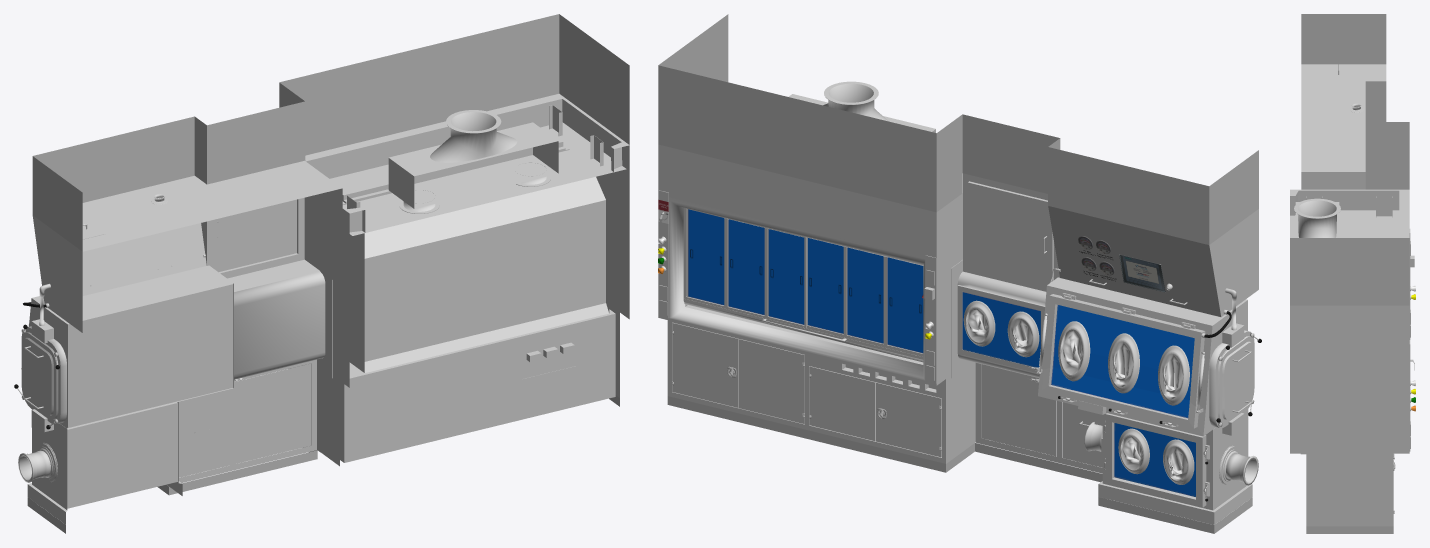
File: small isolator12.fbx
3 views of the same model, side by side, from view 1: azimuth 30°, elevation 25°; view 2: azimuth 150°, elevation 25°; view 3: azimuth 270°, elevation 25° (orthographic). The views are drawn at different scales.
Visible parts, largest first — view 1: fume hood frame.001, fumehood cover small, Cube.047, Cube.060, isolator 2, Cube.017, isolator 3, Cube.015, Cube.002, Cube.039, Cylinder.002, fume hood frame (+6 smaller); view 2: fumehood cover small, fume hood frame.001, Cube.047, isolator 2 door, Cube.017, 3" small isolator plate, fume hood frame, isolator 2, isolator 1, isolator 3 door, fume hood bottome doors 1, isolator 3 (+24 smaller); view 3: fume hood frame.001, fumehood cover small, Cube.047, fume hood frame, Cylinder.002, 3" small isolator plate, Cube.003, Plane.003, Cube.011, Cube.010, Cube.002.
Boxes of the visible parts, bbox=[...] form: fume hood frame.001: bbox=[305, 93, 629, 387]; fumehood cover small: bbox=[32, 14, 629, 251]; Cube.047: bbox=[32, 160, 342, 332]; Cube.060: bbox=[340, 309, 615, 462]; isolator 2: bbox=[22, 265, 233, 428]; Cube.017: bbox=[178, 359, 320, 482]; isolator 3: bbox=[27, 401, 182, 524]; Cube.015: bbox=[234, 271, 325, 379]; Cube.002: bbox=[388, 122, 558, 208]; Cube.039: bbox=[21, 326, 66, 424]; Cylinder.002: bbox=[430, 110, 517, 162]; fume hood frame: bbox=[290, 305, 619, 466]; fumehood cover small: bbox=[658, 14, 1258, 244]; fume hood frame.001: bbox=[658, 144, 962, 385]; Cube.047: bbox=[963, 173, 1258, 316]; isolator 2 door: bbox=[1041, 294, 1205, 428]; Cube.017: bbox=[975, 363, 1102, 473]; 3" small isolator plate: bbox=[667, 396, 1252, 533]; fume hood frame: bbox=[667, 320, 981, 463]; isolator 2: bbox=[1038, 277, 1247, 436]; isolator 1: bbox=[957, 271, 1046, 377]; isolator 3 door: bbox=[1105, 413, 1206, 507]; fume hood bottome doors 1: bbox=[738, 339, 804, 423]; isolator 3: bbox=[1098, 409, 1252, 524]; fume hood frame.001: bbox=[1290, 189, 1409, 453]; fumehood cover small: bbox=[1290, 14, 1409, 305]; Cube.047: bbox=[1301, 64, 1386, 189]; fume hood frame: bbox=[1306, 453, 1393, 526]; Cylinder.002: bbox=[1294, 198, 1340, 237]; 3" small isolator plate: bbox=[1306, 526, 1393, 533]; Cube.003: bbox=[1347, 215, 1371, 237]; Plane.003: bbox=[1376, 196, 1392, 217]; Cube.011: bbox=[1409, 229, 1414, 339]; Cube.010: bbox=[1409, 340, 1410, 451]; Cube.002: bbox=[1295, 202, 1339, 237].
Bounding box in the file's own units: 509 × 300 × 116.
